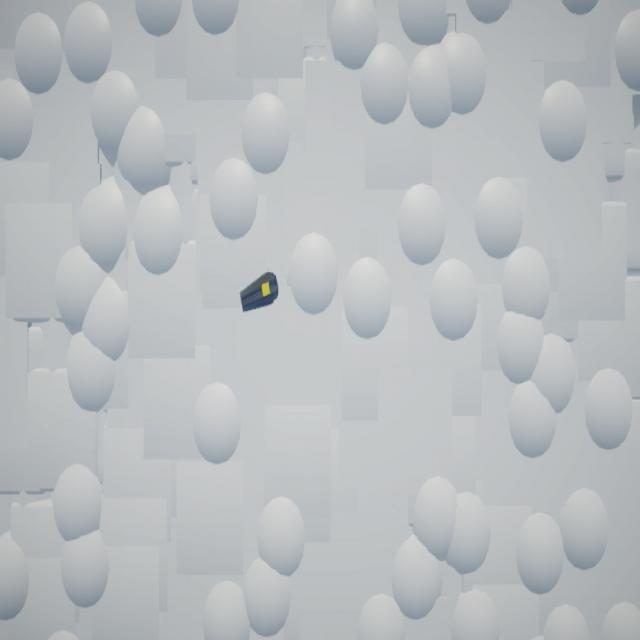handle_folk: (241, 274, 279, 314)
